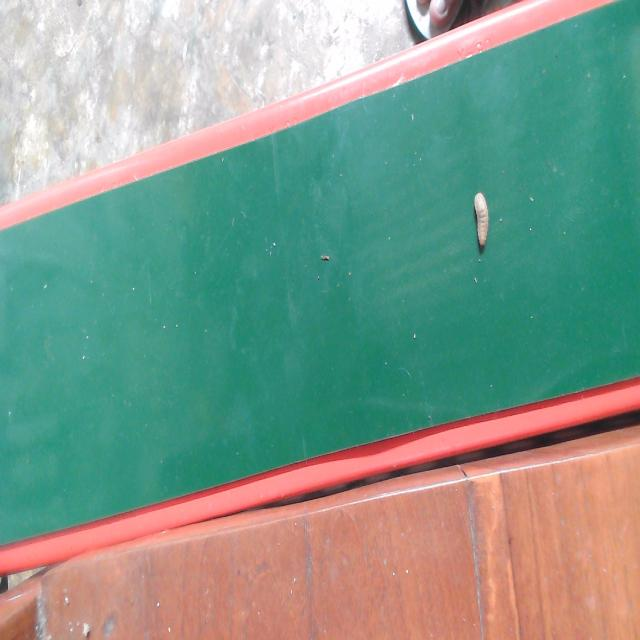Maggot: (472, 193, 493, 252)
